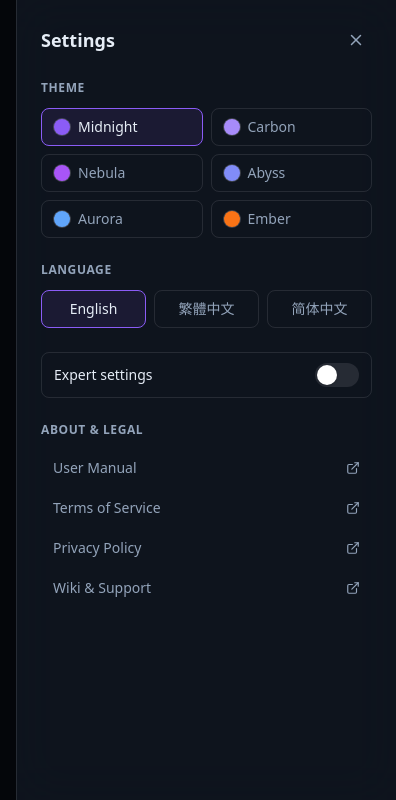
Test: SettingsOverlay — Basic/Expert layering › reveals the Connection section when Expert mode is switched on
What coordinates should you click on to do the following:
click the switch with test id "settings-expert-mode"
I would click on:
 (337, 375)
Its box is x1=315 y1=363 x2=359 y2=387.
(page scrolled)
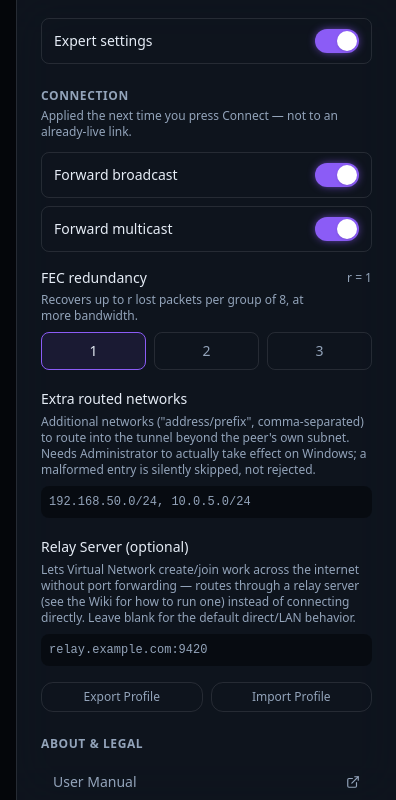
Expected: the element with test id "settings-connection" is shown
